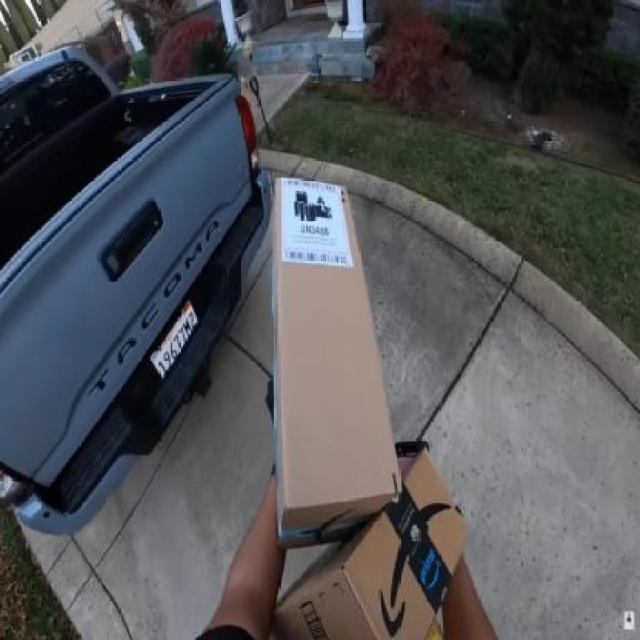cardboxes: (272, 174, 400, 558), (268, 446, 473, 640)
